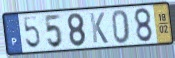0: (111, 8, 131, 45)
5: (42, 13, 65, 50), (22, 16, 43, 51)
8: (133, 7, 154, 44), (67, 12, 87, 48)
K: (88, 12, 109, 45)
